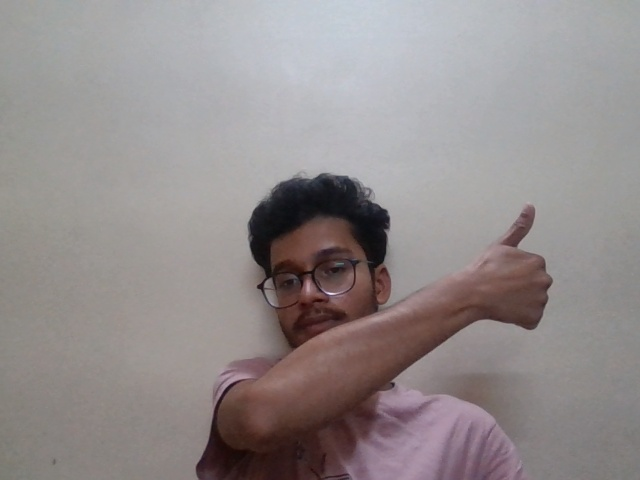yes: (460, 193, 568, 351)
